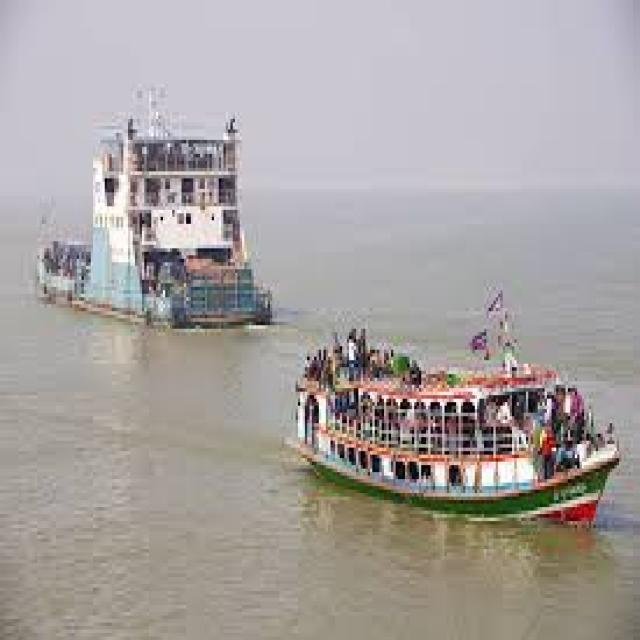passenger ship: (286, 274, 617, 529), (24, 88, 262, 326)
